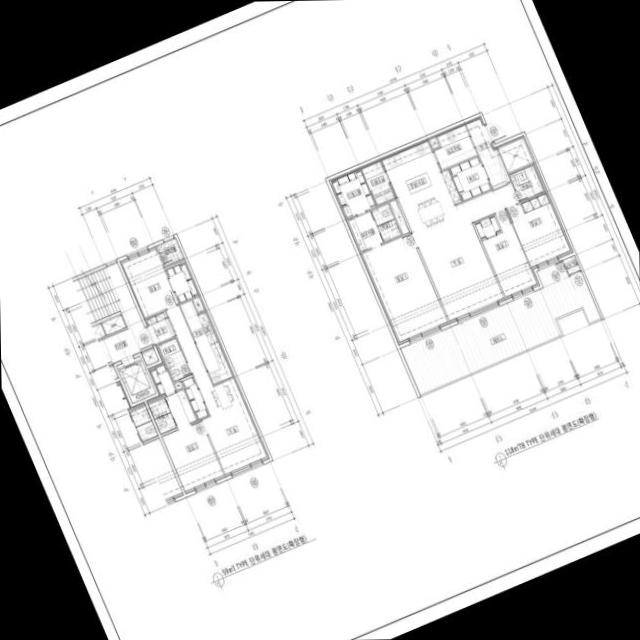background: (0, 0, 640, 640)
space_bedroom: (361, 233, 448, 343), (474, 209, 537, 298), (506, 192, 570, 268), (161, 419, 224, 492), (119, 245, 178, 317)
space_dressroom: (331, 169, 375, 217), (164, 258, 199, 302), (164, 388, 196, 429), (148, 362, 175, 396)
space_elevator: (116, 355, 155, 402)
space_elevator_hall: (98, 262, 152, 364)
space_front: (465, 118, 509, 187), (144, 310, 174, 343)
space_kitchen: (381, 140, 460, 233), (179, 299, 233, 383), (433, 124, 476, 169)
space_living_room: (165, 304, 268, 475), (412, 182, 519, 322)
space_other: (449, 155, 492, 200), (361, 160, 395, 205), (347, 210, 383, 250), (497, 137, 532, 171), (181, 376, 208, 419), (388, 199, 409, 234), (101, 314, 125, 335), (141, 347, 158, 364), (91, 322, 105, 339), (192, 295, 205, 311), (428, 136, 439, 148), (174, 380, 182, 389)
space_outdoor_room: (157, 237, 183, 264), (562, 255, 580, 273)
space_staircase: (72, 267, 122, 322)
space_toilet: (157, 336, 191, 381), (509, 164, 543, 201), (370, 203, 400, 241), (147, 396, 170, 418), (154, 412, 176, 433)
